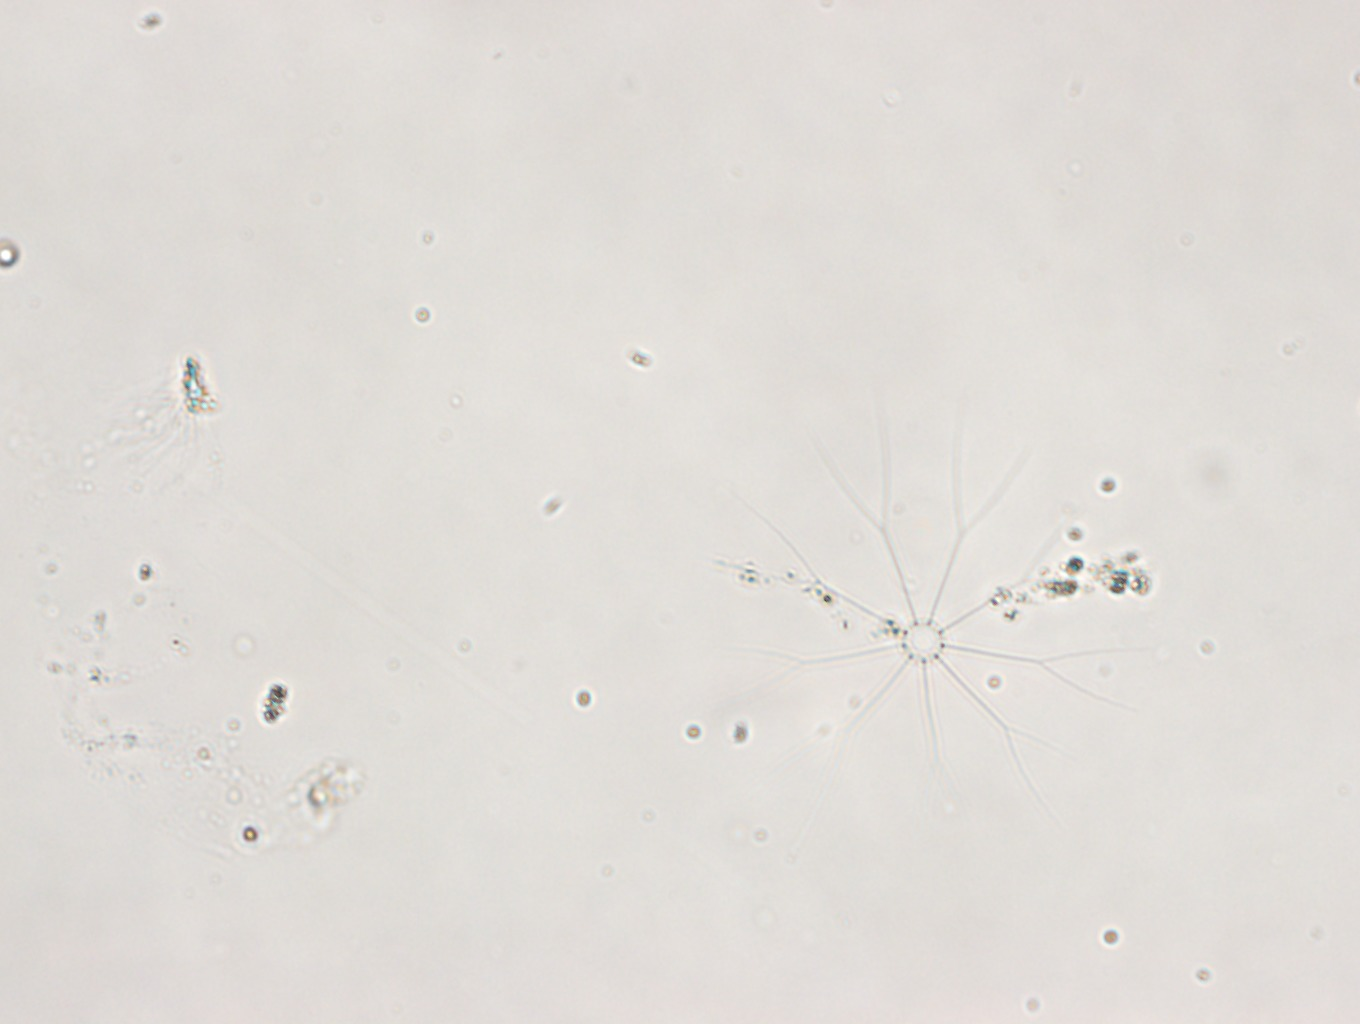bacteriastrum: (715, 415, 1141, 795)
